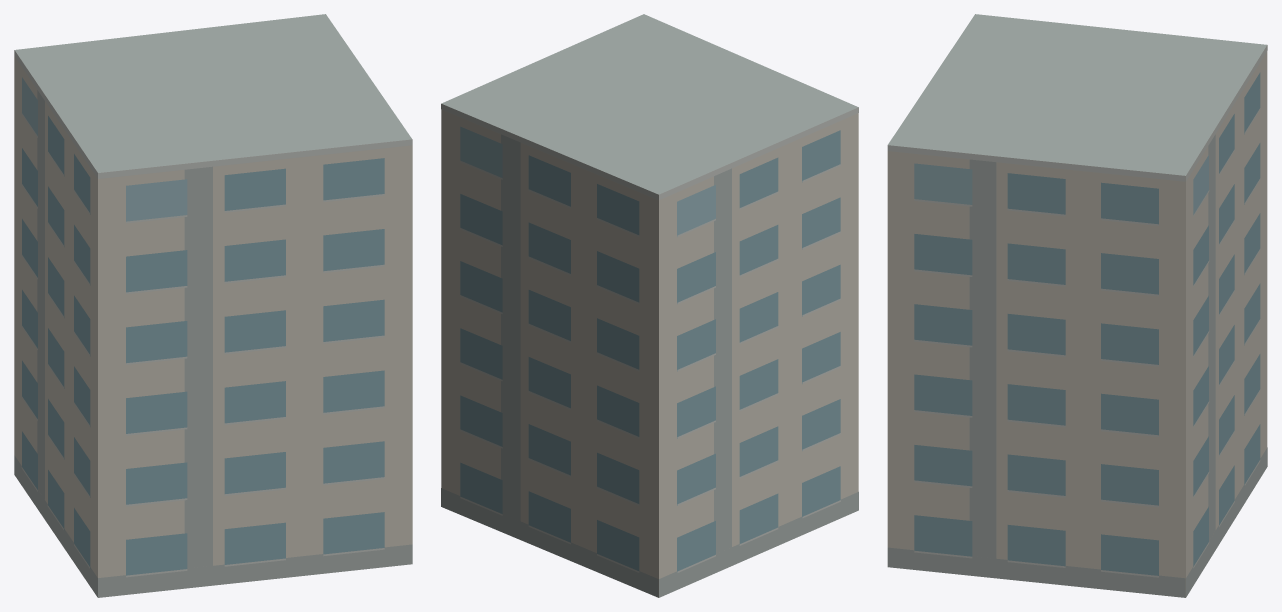
Rendered from survey-upis-32828220.glb.
The picture shows the model from 3 angles, left to right: view 1: azimuth 30°, elevation 25°; view 2: azimuth 150°, elevation 25°; view 3: azimuth 270°, elevation 25°; orthographic projection. The views are drawn at different scales.
Parts seen in each view (by area): view 1: survey-upis-32828220.tmp; view 2: survey-upis-32828220.tmp; view 3: survey-upis-32828220.tmp.
Part boxes in pixels (x1,y1,x2,y2): survey-upis-32828220.tmp: (14,14,412,597); survey-upis-32828220.tmp: (441,14,858,597); survey-upis-32828220.tmp: (887,14,1267,597).
Bounding box in the file's own units: 14.32 × 17.4 × 14.2.
